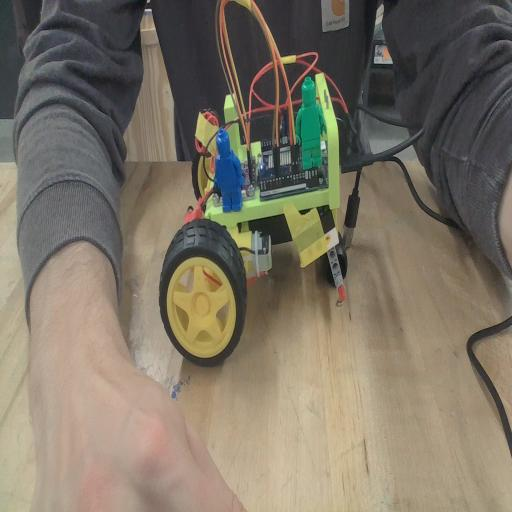blue LEGO minifig: (211, 126, 249, 216)
green LEGO minifig: (292, 71, 328, 172)
